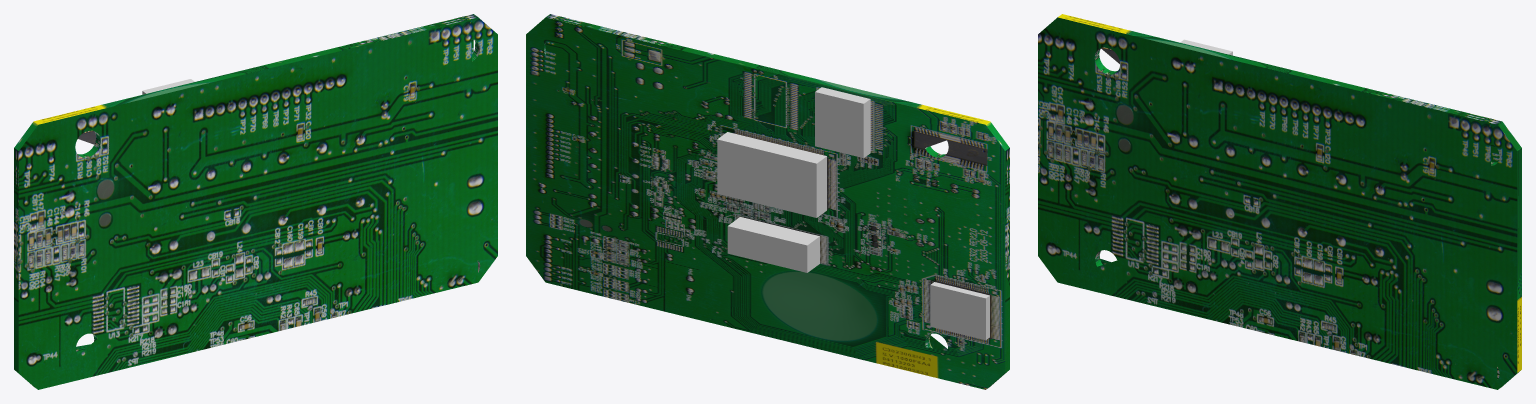
The model's file is circuitBoard.fbx.
3 views of the same model, side by side, from view 1: azimuth 30°, elevation 25°; view 2: azimuth 150°, elevation 25°; view 3: azimuth 330°, elevation 25° (orthographic).
Visible parts, largest first — view 1: CircuitBoard; view 2: CircuitBoard, Boards; view 3: CircuitBoard.
Part boxes in pixels (box(x1,y1,x2,y2)): CircuitBoard: box(14, 14, 497, 389); CircuitBoard: box(526, 14, 1009, 389); Boards: box(717, 87, 989, 340); CircuitBoard: box(1038, 14, 1521, 389).
Bounding box in the file's own units: 132 × 69.89 × 8.58.
